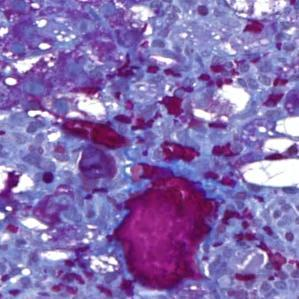ballooning: (239, 157, 295, 191)
